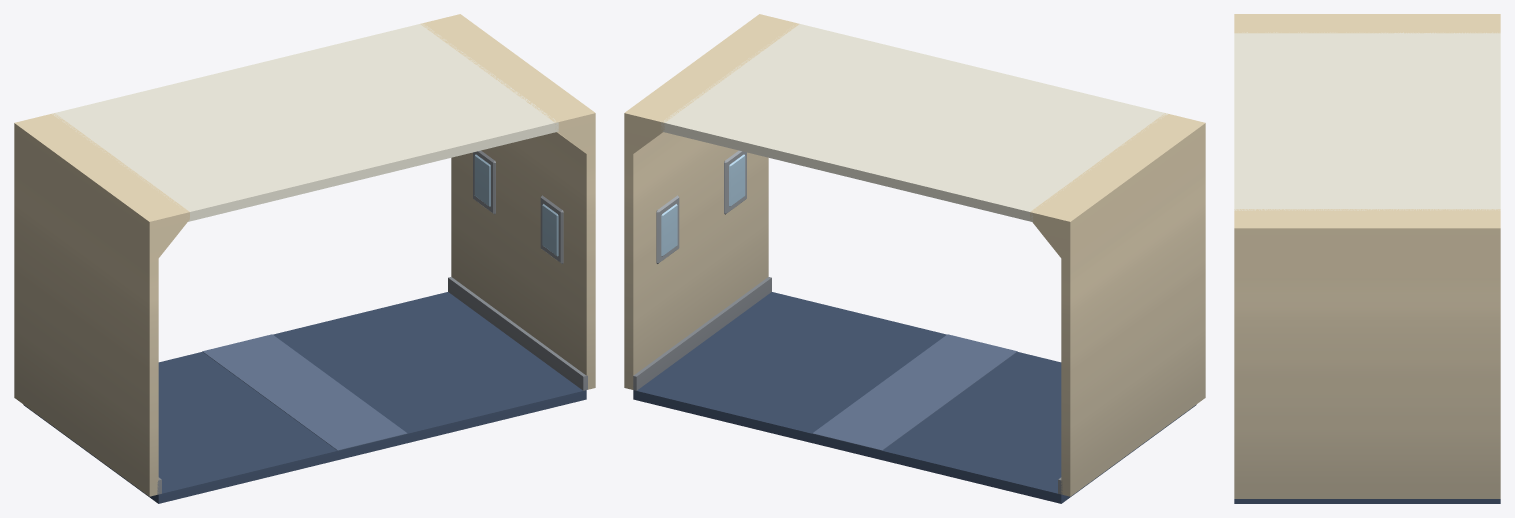
File: Segmento.fbx
3 renders of one model, left to right at view 1: azimuth 30°, elevation 25°; view 2: azimuth 150°, elevation 25°; view 3: azimuth 270°, elevation 25°, orthographic.
Visible parts, largest first — view 1: Segmento_Malha; view 2: Segmento_Malha; view 3: Segmento_Malha.
Boxes of the visible parts, <box> form: Segmento_Malha: <box>14,14,595,503</box>; Segmento_Malha: <box>624,14,1205,503</box>; Segmento_Malha: <box>1234,14,1500,503</box>.
Size of the model in its own units: 3.96 by 2.41 by 2.08.
